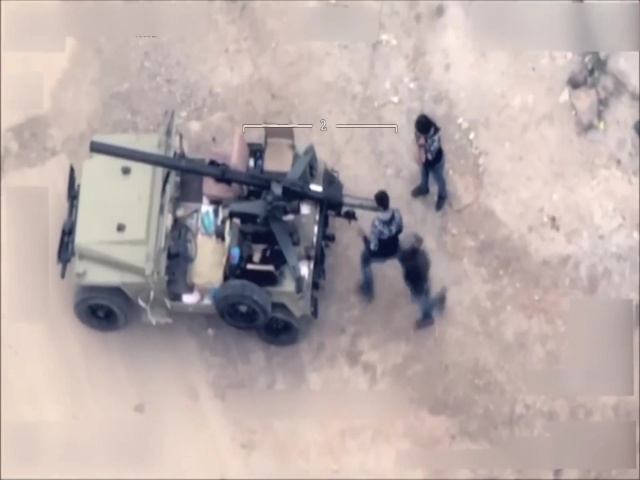person: (353, 188, 413, 312), (401, 111, 456, 215), (398, 228, 451, 335)
vehicle: (63, 135, 347, 345)
